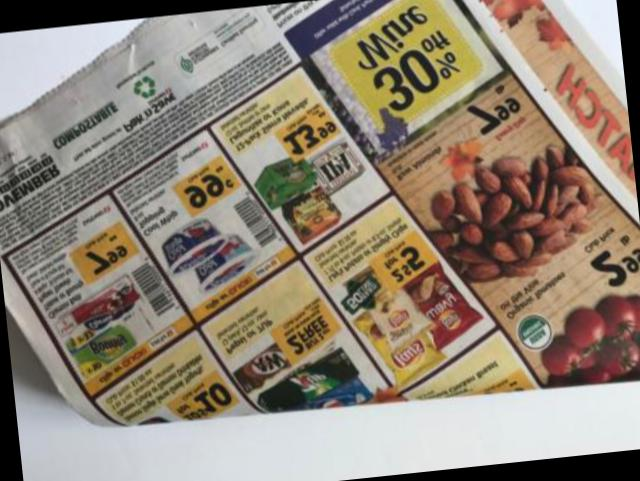cardboard paper: (0, 0, 640, 422)
